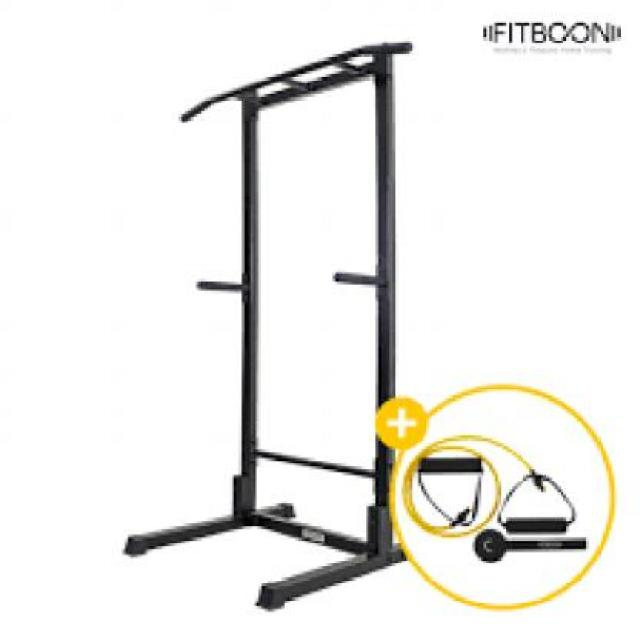chinning dipping: (124, 42, 413, 612)
